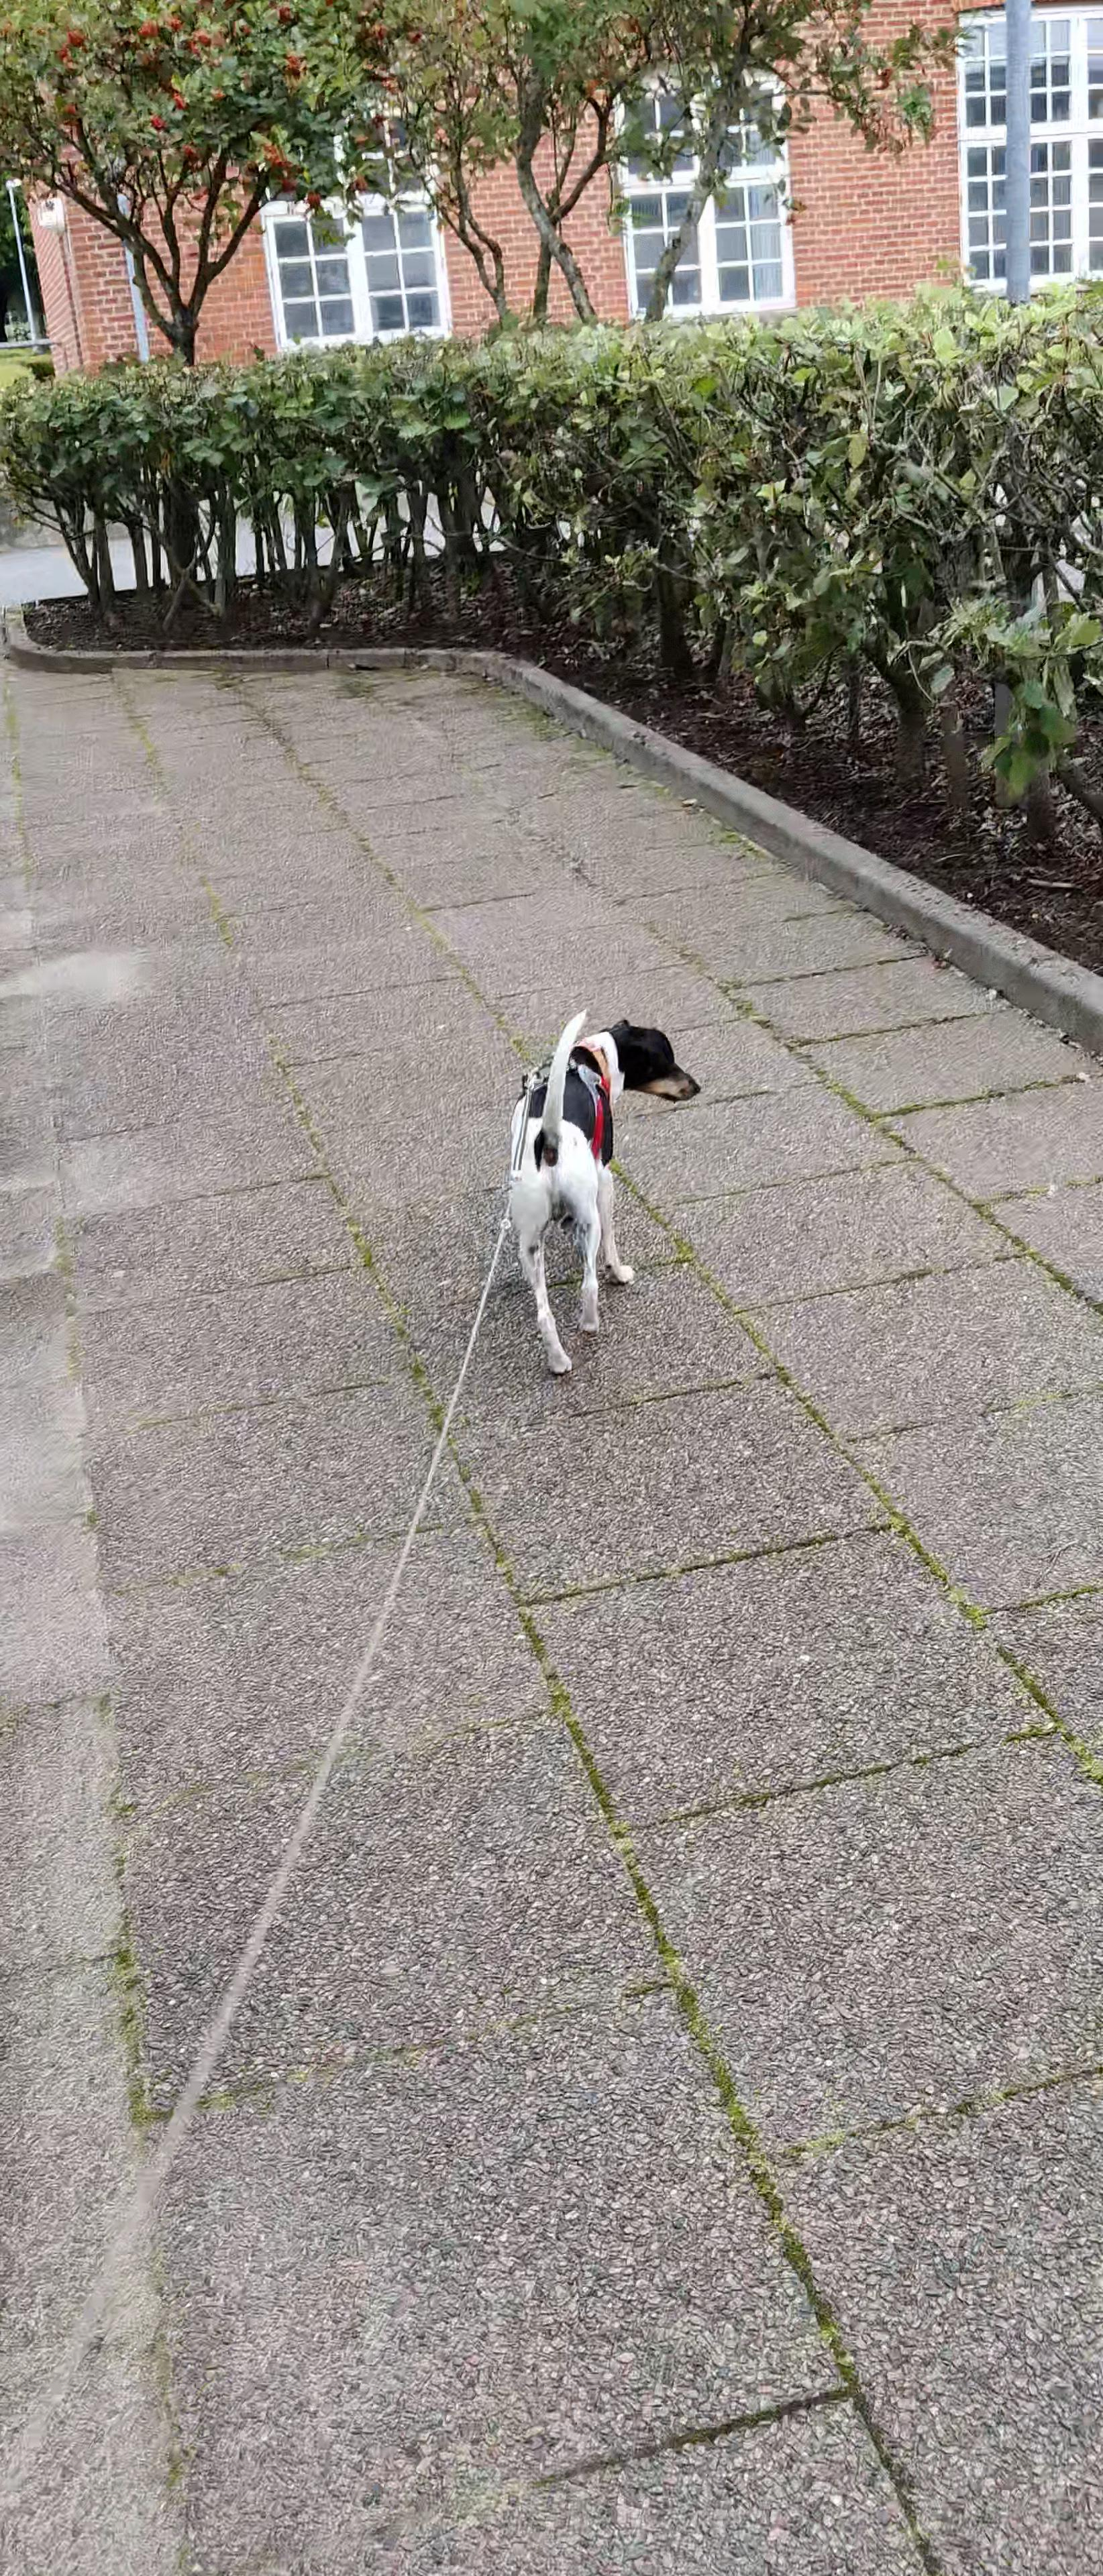Dog: (495, 986, 712, 1388)
